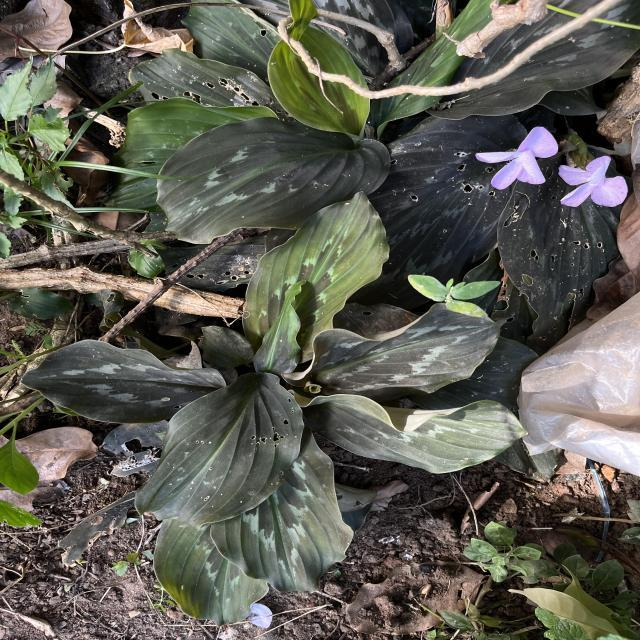Kaempferia galanga linn: (155, 114, 393, 246), (132, 370, 306, 534), (240, 188, 392, 366), (209, 421, 356, 596), (278, 300, 508, 400), (288, 384, 530, 476), (18, 337, 228, 428), (150, 520, 272, 630), (250, 274, 308, 380)
